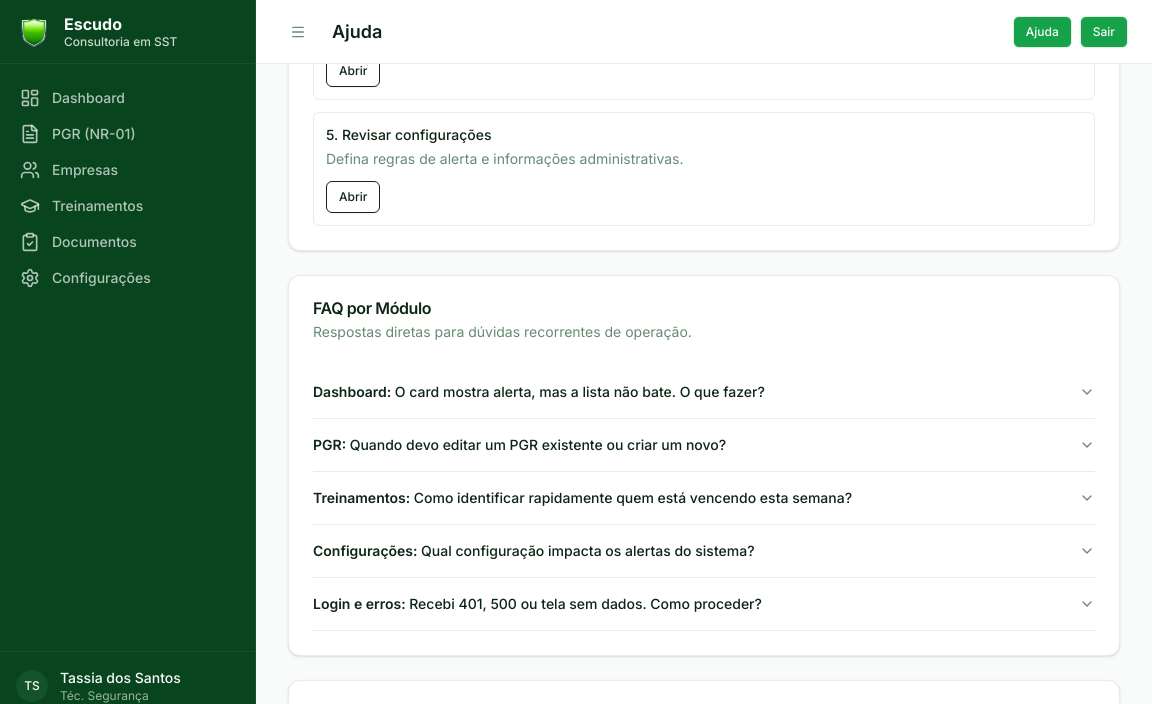
Test: Help page › opens faq item and displays the selected answer
(page scrolled)
Click the button that starts with "Dashboard".
click(704, 392)  # box [313,366,1095,418]
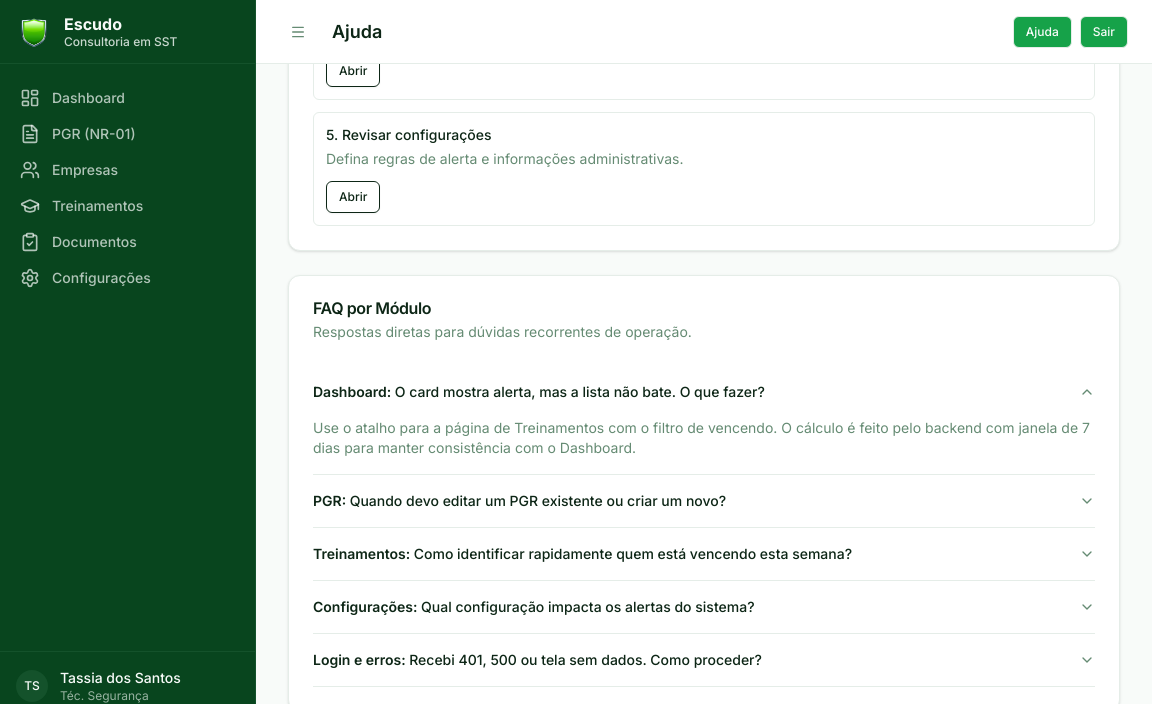
Check: the text "cálculo é feito pelo backend com janela de 7 dias" is shown, box [313,419,1090,456]
